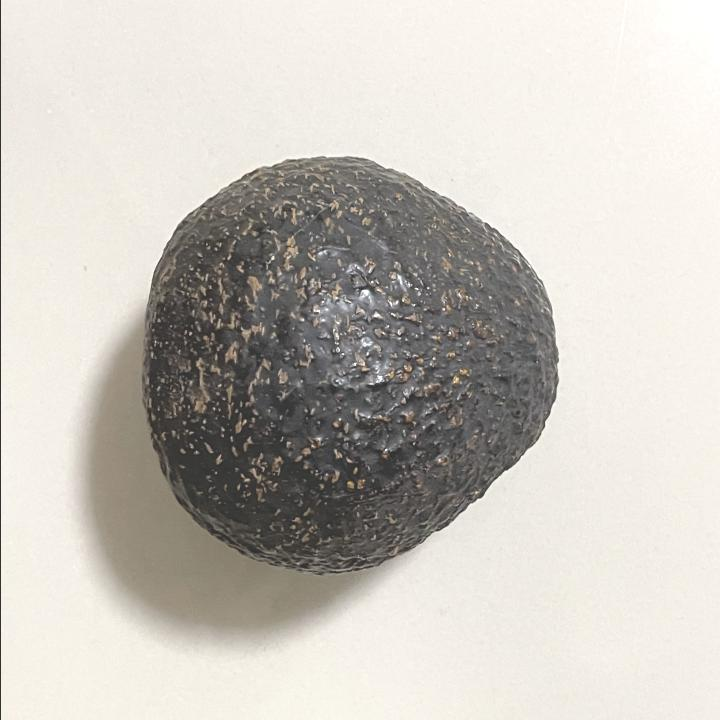Level3: (136, 150, 566, 582)
